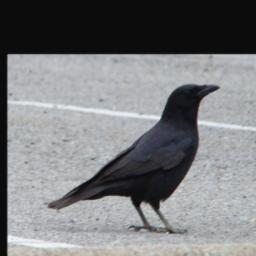Crow: (47, 83, 221, 234)
